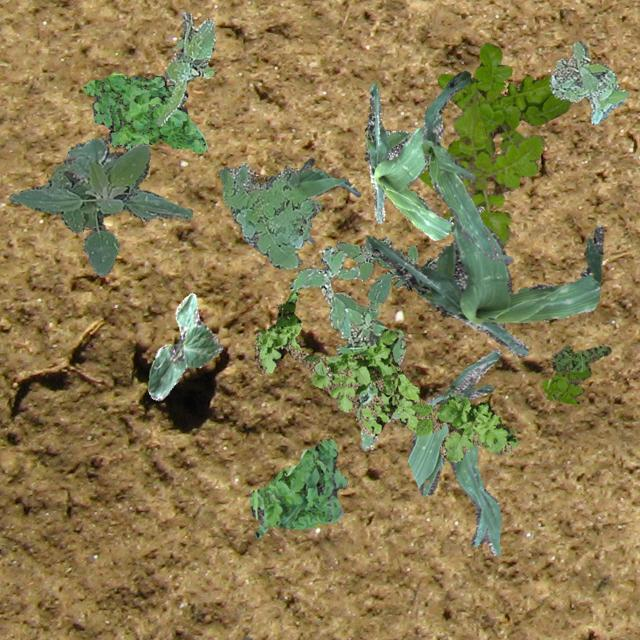crop: (364, 220, 604, 356), (8, 136, 192, 274), (406, 348, 501, 554), (363, 82, 482, 238), (420, 70, 512, 262), (146, 292, 222, 399), (296, 156, 359, 242)
weed: (254, 288, 516, 461), (418, 88, 544, 246), (436, 42, 570, 158), (218, 162, 320, 268), (82, 72, 206, 152), (248, 438, 346, 538), (336, 306, 404, 448), (334, 236, 434, 320), (548, 40, 626, 124), (156, 10, 213, 124), (288, 244, 358, 330), (540, 366, 590, 404), (550, 344, 610, 371)
